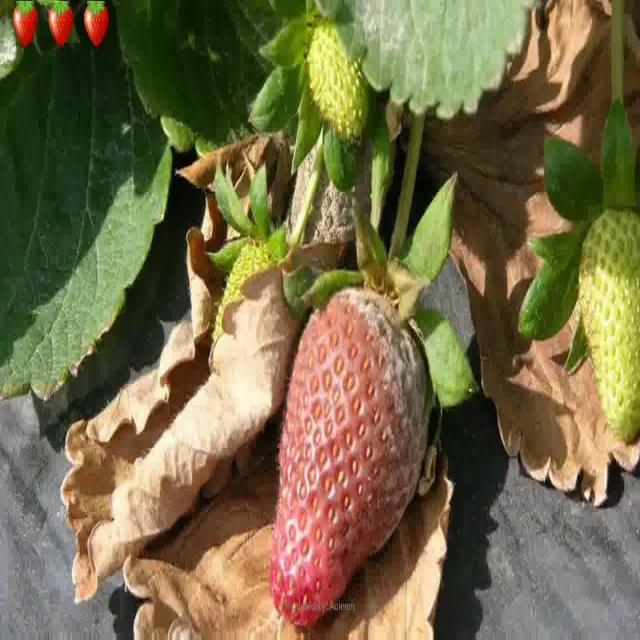Moho gris: (273, 272, 437, 620), (261, 72, 390, 292)
